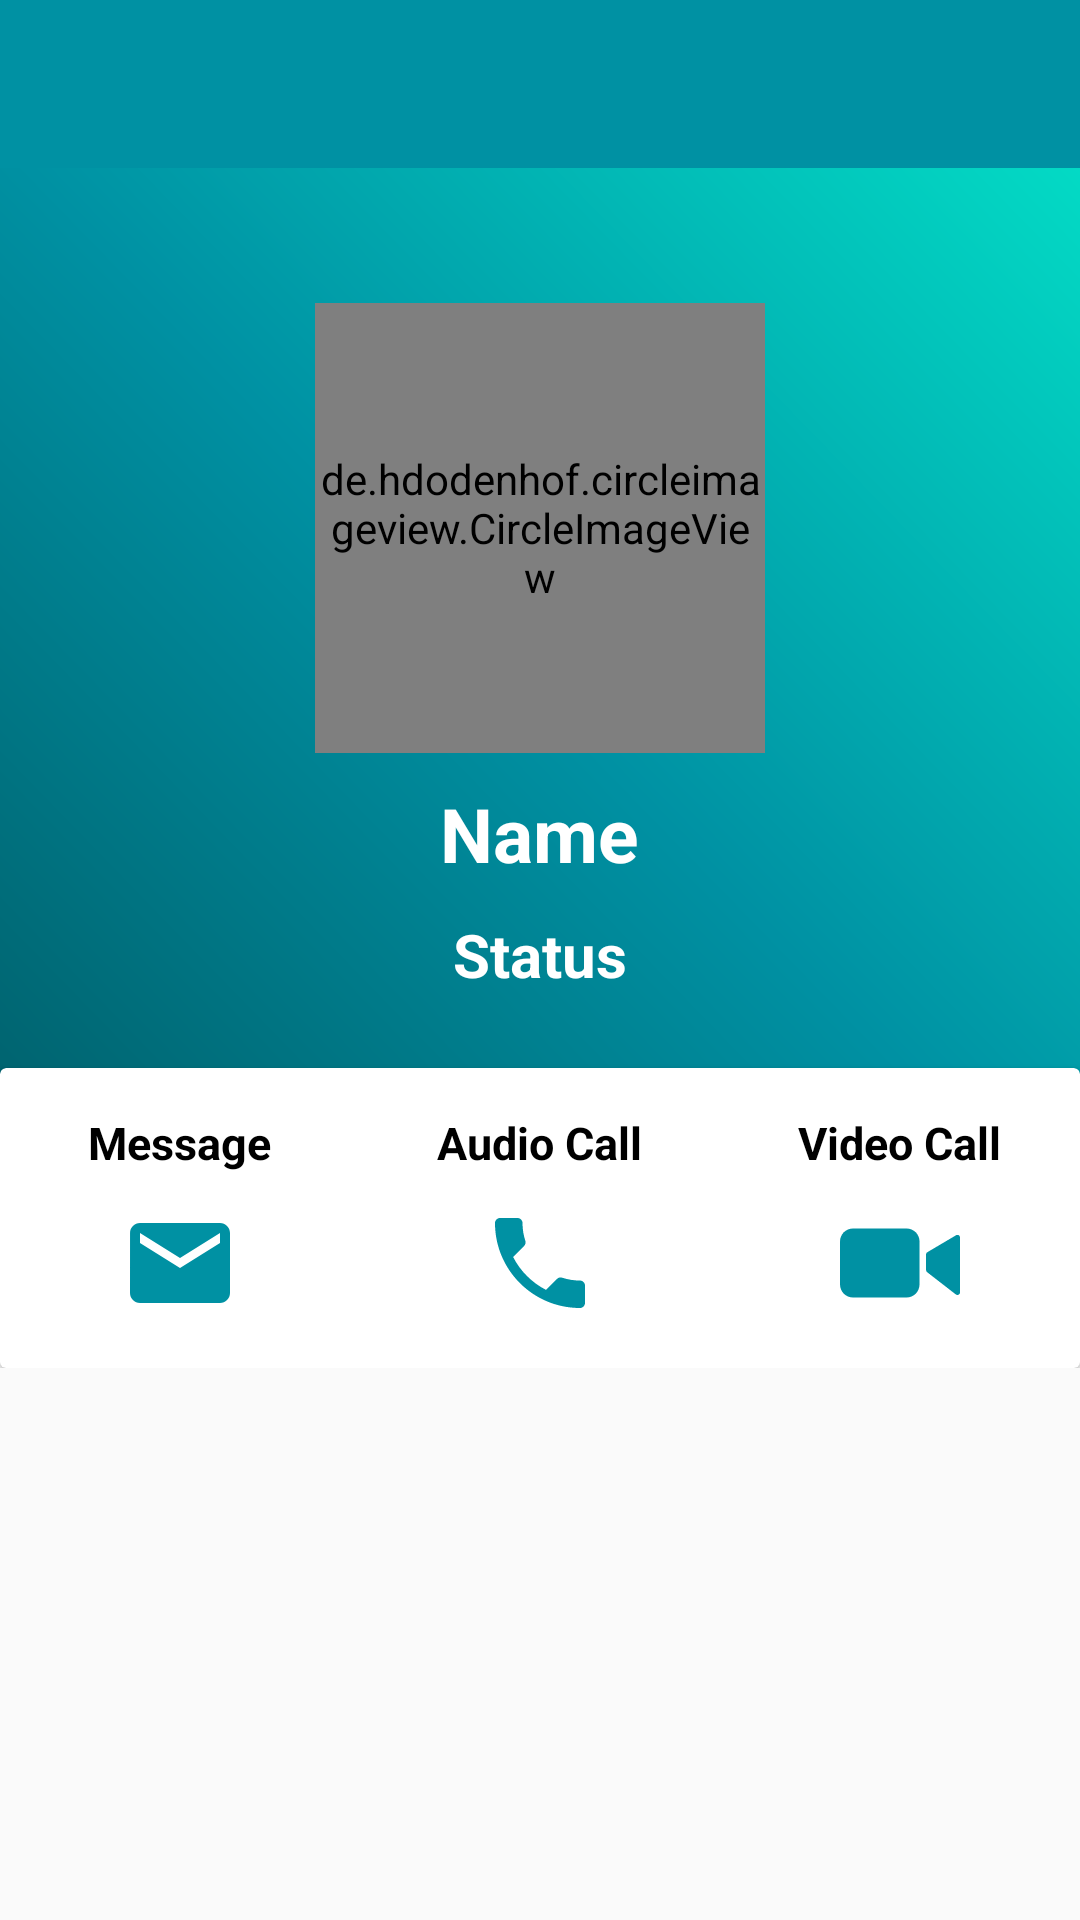

Icon bounding boxes for this 1080×1920 phone screenshot, format (x1, y1, x2, y2):
mail: (130, 1223, 230, 1303)
